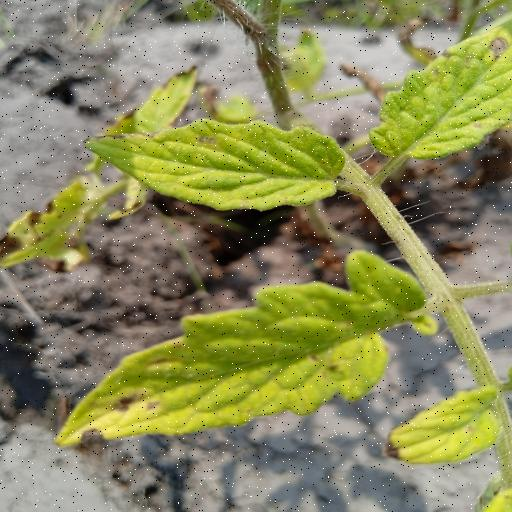Tomato_Brown_Spots: (52, 249, 448, 451), (76, 113, 352, 213), (368, 14, 512, 162)
